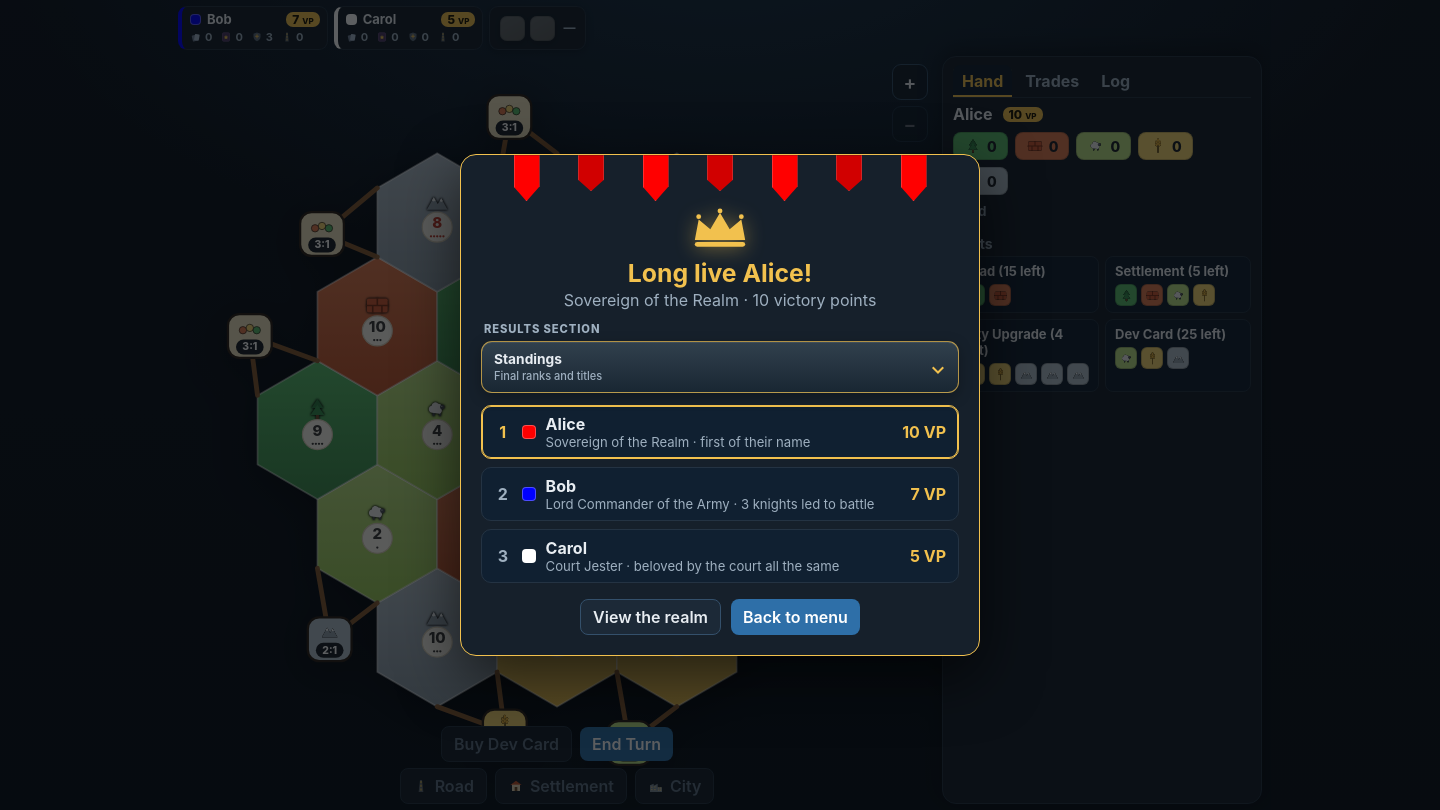
Test: shows dice roll stats in a separate tab and excludes turn-order rolls
Check: the text "Dice roll stats" is not shown
Click the button with aria-label "results section: standings" at (528, 359), box x1=481 y1=341 x2=959 y2=393
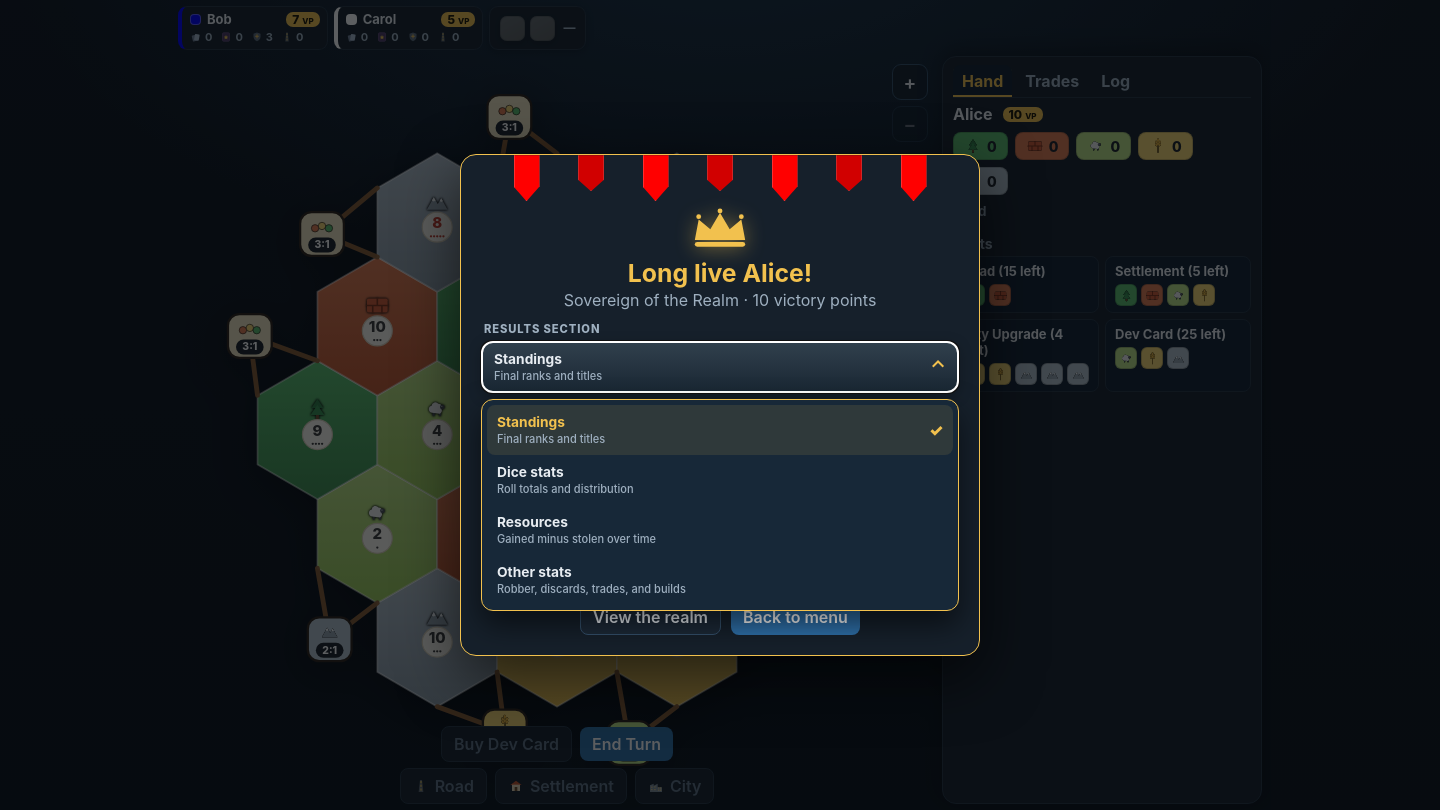
Check: the list named "results section" is shown, box x1=481 y1=399 x2=959 y2=611
Click the option "Dice stats Roll totals and distribution" at (530, 472), box x1=487 y1=455 x2=953 y2=505
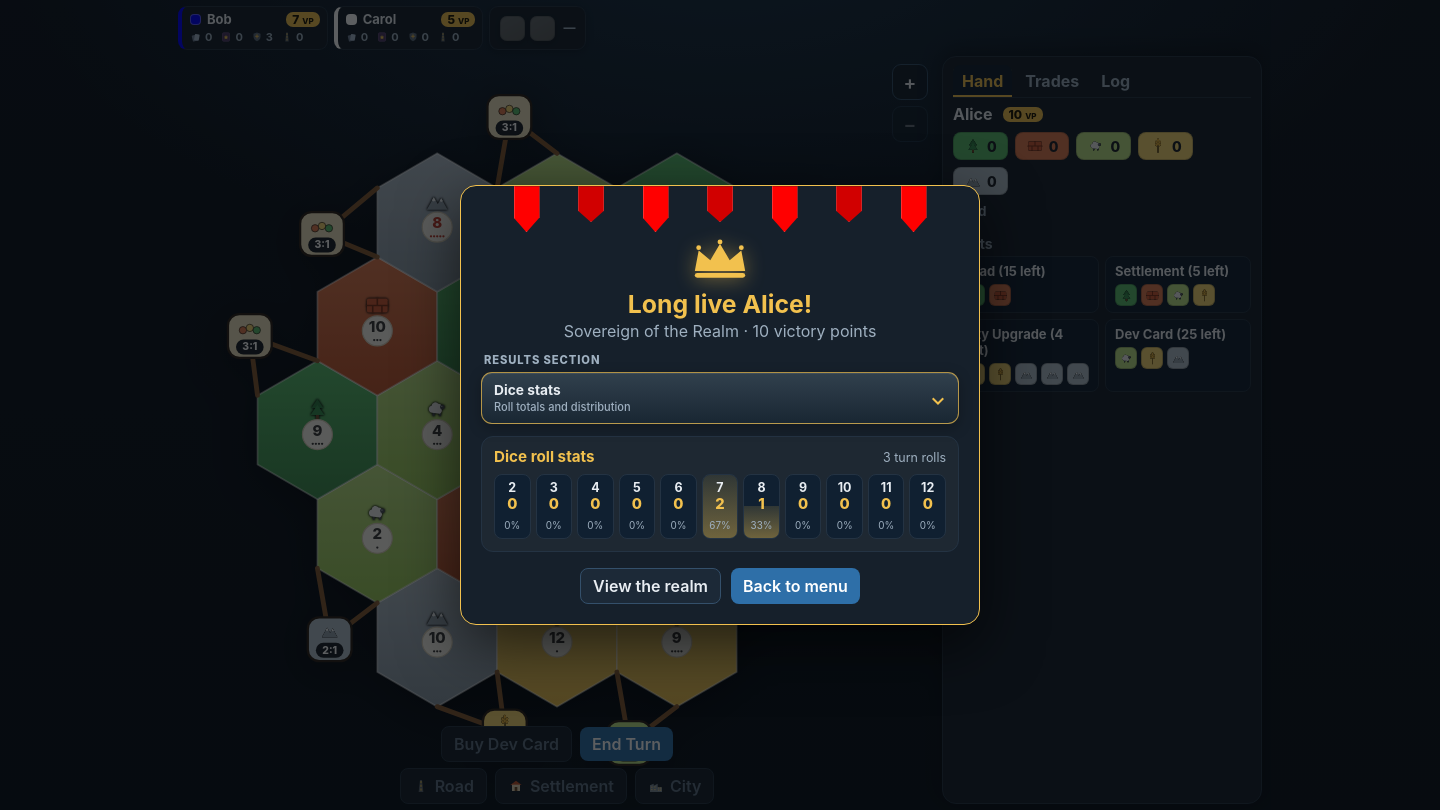
Check: the button with aria-label "results section: dice stats" is collapsed, box x1=481 y1=372 x2=959 y2=424
Check: the element named "dice stats" shows "3 turn rolls", box x1=481 y1=436 x2=959 y2=552
Check: the element named "7: 2 rolls, 67%" is shown, box x1=702 y1=474 x2=738 y2=539
